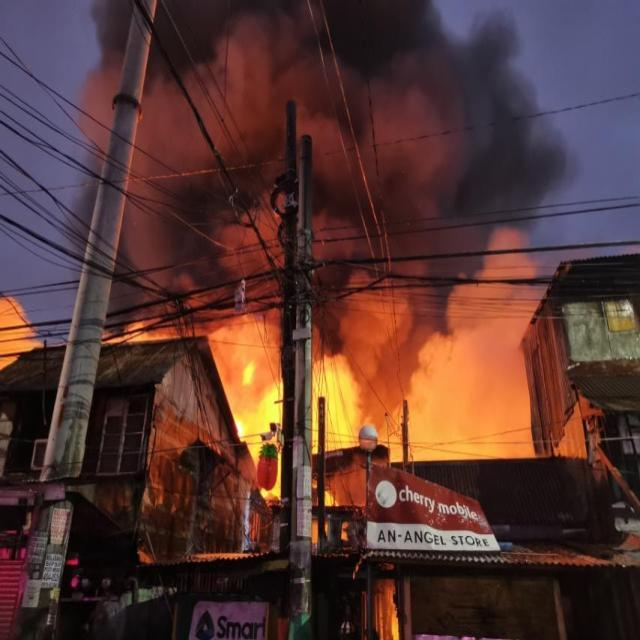Fire: (308, 486, 351, 544), (372, 572, 400, 640)
Smoke: (83, 0, 545, 335), (164, 294, 558, 464), (0, 300, 45, 364)
